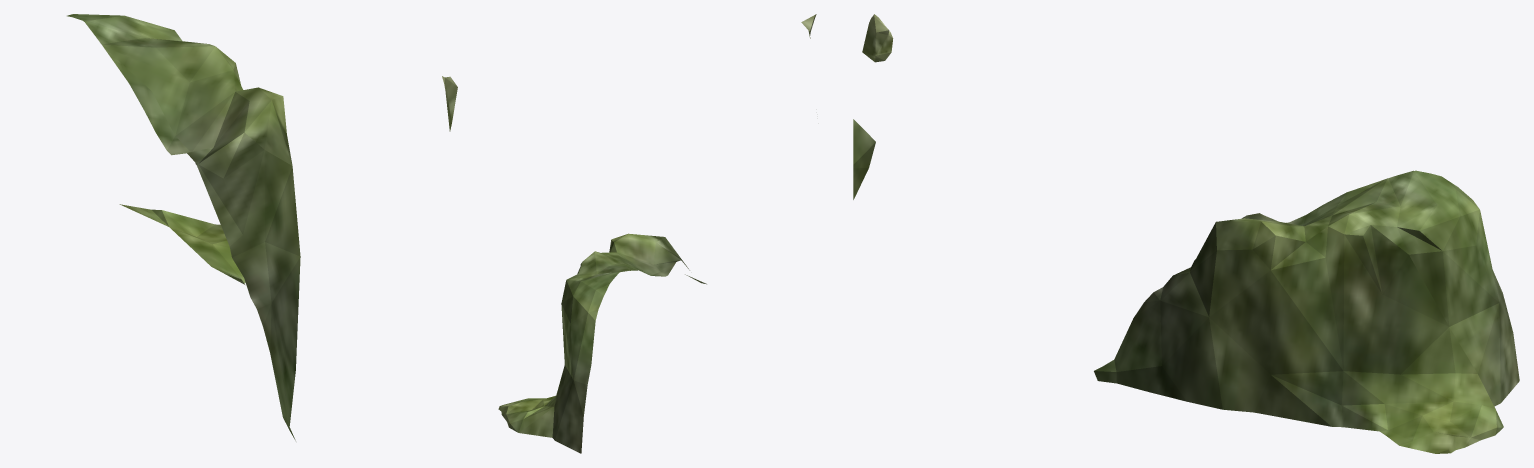
3 renders of one model, left to right at view 1: azimuth 30°, elevation 25°; view 2: azimuth 150°, elevation 25°; view 3: azimuth 270°, elevation 25°, orthographic. The views are drawn at different scales.
Size of the model in its own units: 0.5056 by 1.19 by 1.95.
1 material, 1 textured.
